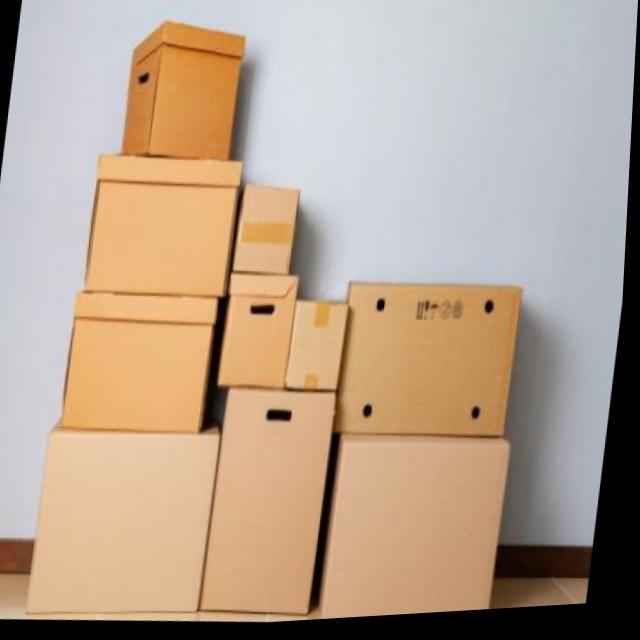box: (23, 416, 227, 632), (321, 428, 525, 624), (337, 265, 533, 456), (207, 387, 343, 627), (49, 282, 229, 452), (82, 148, 245, 308), (114, 11, 265, 171), (216, 275, 303, 397), (288, 300, 354, 399), (238, 177, 305, 274)
